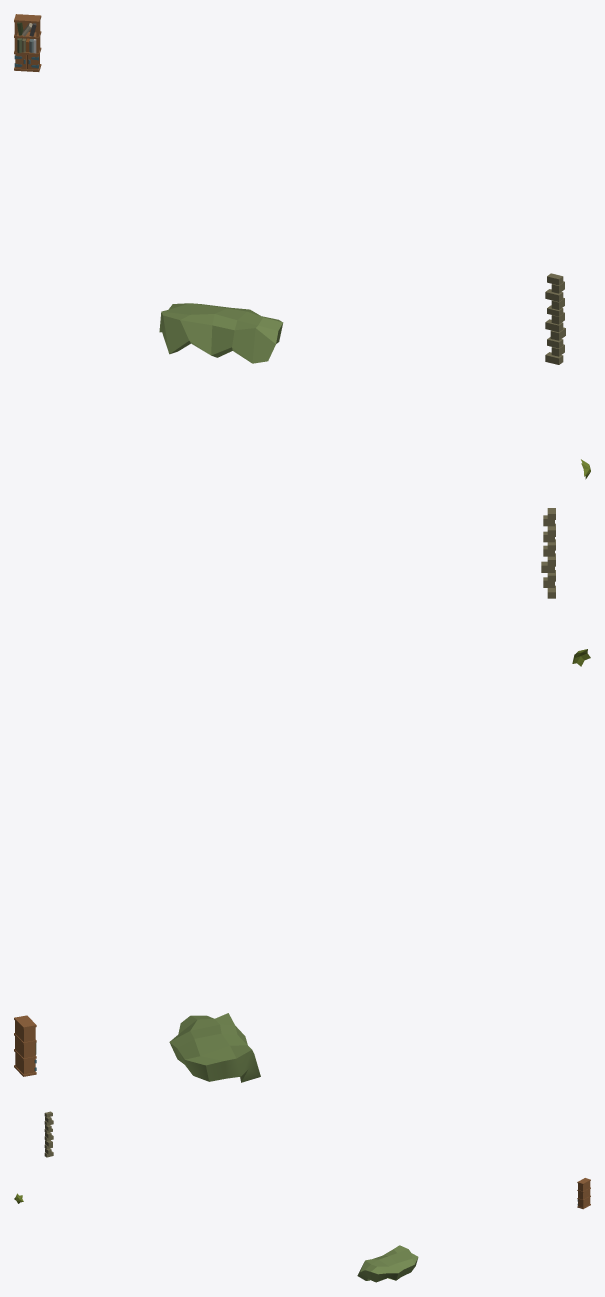
3 views of the same model, one above another, from view 1: azimuth 30°, elevation 25°; view 2: azimuth 150°, elevation 25°; view 3: azimuth 270°, elevation 25° (orthographic). The views are drawn at different scales.
Parts seen in each view (by area): view 1: Plane033_green3_0, Box15617_rock2_0, Box15287_brown_0; view 2: Plane033_green3_0, Box15287_brown_0, Box15617_rock2_0; view 3: Plane033_green3_0, Box15287_brown_0, Box15617_rock2_0.
Boxes of the visible parts, x1,y1,x2,y2 form: Plane033_green3_0: [159, 303, 283, 363]; Box15617_rock2_0: [545, 273, 565, 364]; Box15287_brown_0: [14, 14, 41, 71]; Plane033_green3_0: [169, 1013, 260, 1082]; Box15287_brown_0: [14, 1015, 36, 1076]; Box15617_rock2_0: [541, 508, 555, 598]; Plane033_green3_0: [357, 1245, 418, 1282]; Box15287_brown_0: [577, 1178, 590, 1209]; Box15617_rock2_0: [44, 1111, 53, 1157].
Bounding box in the file's own units: 521 × 1684 × 5409.
